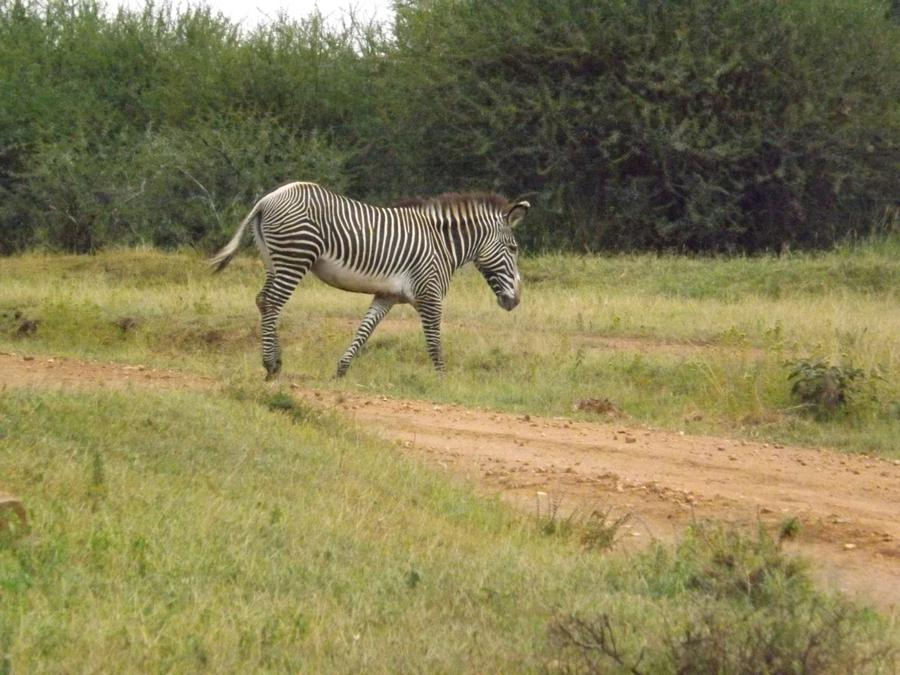zebra_grevys: (260, 199, 448, 298)
